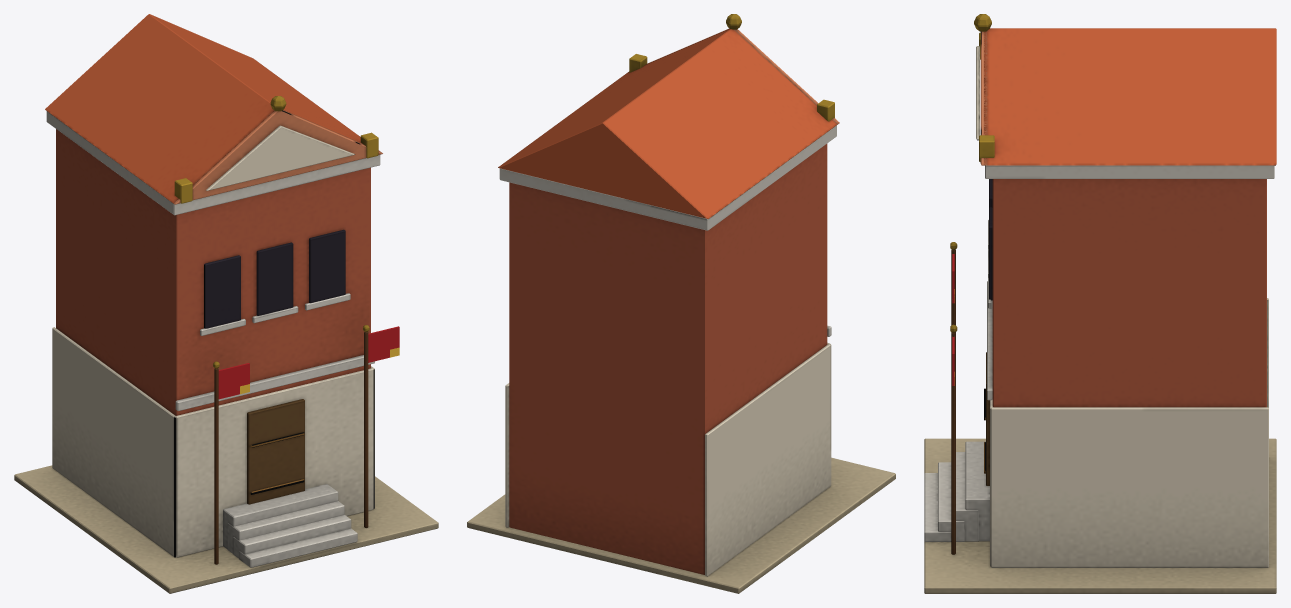
The model's file is kuria.glb.
3 renders of one model, left to right at view 1: azimuth 30°, elevation 25°; view 2: azimuth 150°, elevation 25°; view 3: azimuth 270°, elevation 25°, orthographic. The views are drawn at different scales.
Parts seen in each view (by area): view 1: kuria, anim_kolys_flaga_spqr_2, anim_kolys_flaga_spqr_0; view 2: kuria; view 3: kuria.
Part boxes in pixels (x1,y1,x2,y2): kuria: (14, 14, 438, 593); anim_kolys_flaga_spqr_2: (368, 326, 399, 362); anim_kolys_flaga_spqr_0: (218, 363, 249, 399); kuria: (467, 14, 895, 593); kuria: (924, 14, 1276, 593).
Bounding box in the file's own units: 1.8 × 2.85 × 1.8.
Materials: 3 (1 with a texture image).
